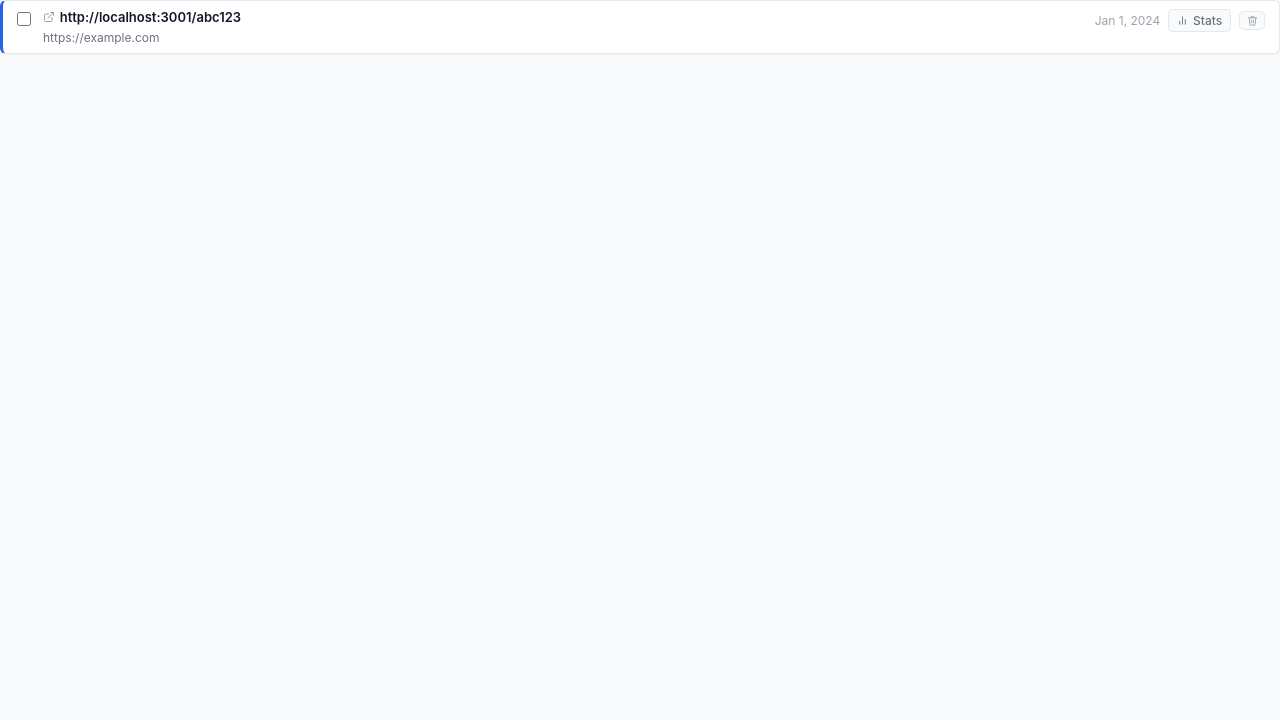
Test: Table › shows an error toast when a single delete fails
This screenshot has width=1280, height=720.
Click the button named "Delete /abc123" at (1252, 21), box x1=1239 y1=11 x2=1265 y2=30
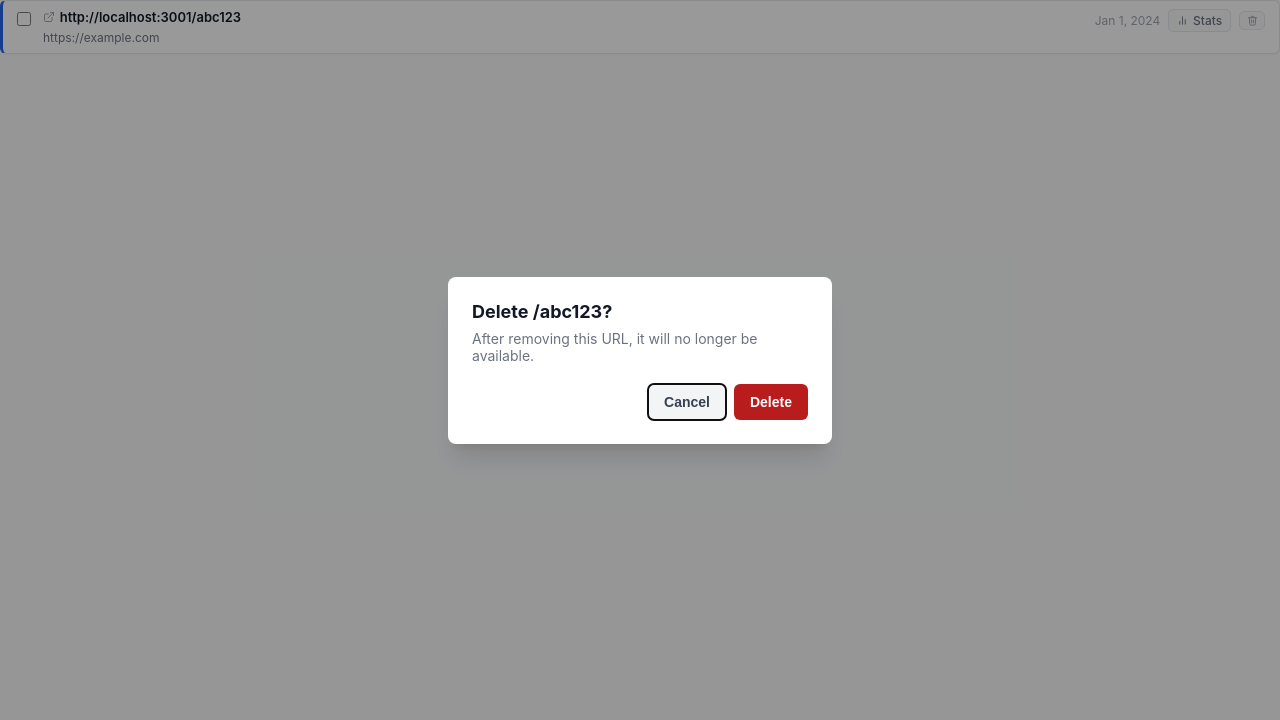
Click the button "Delete" at (771, 402), box x1=734 y1=384 x2=808 y2=420
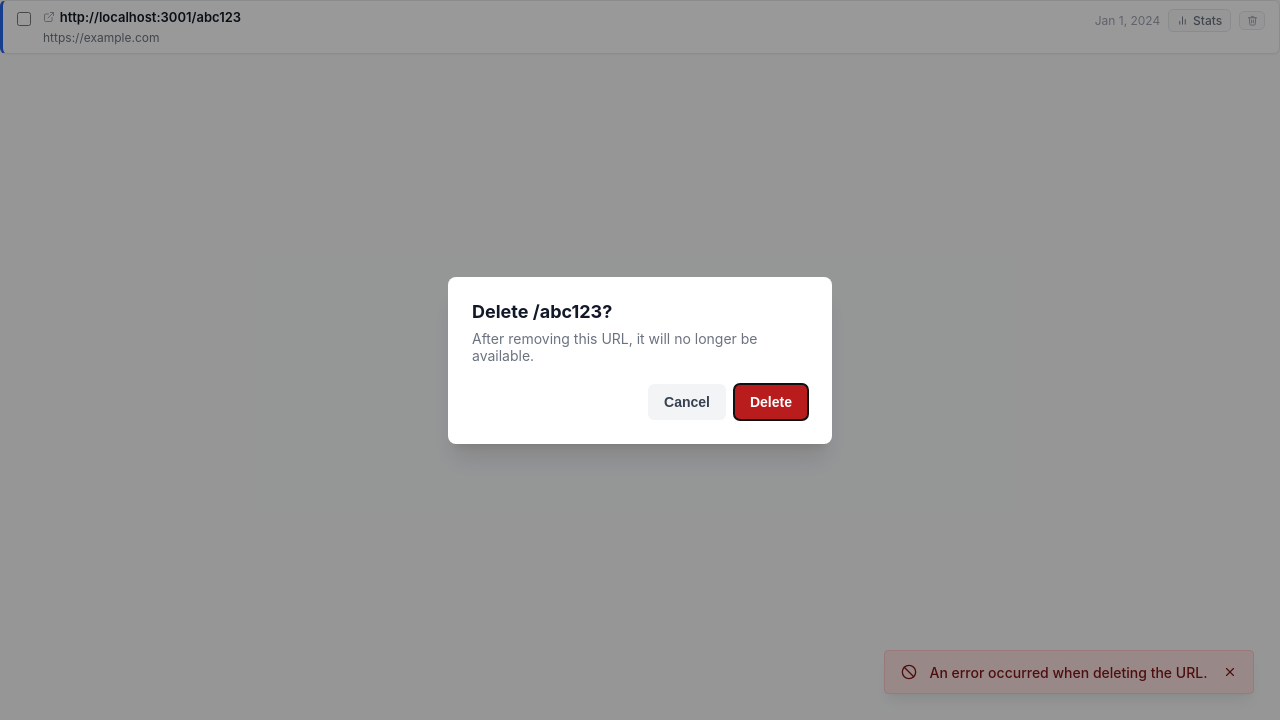
Check: the text "An error occurred when deleting the URL." is shown, box x1=930 y1=664 x2=1208 y2=681
